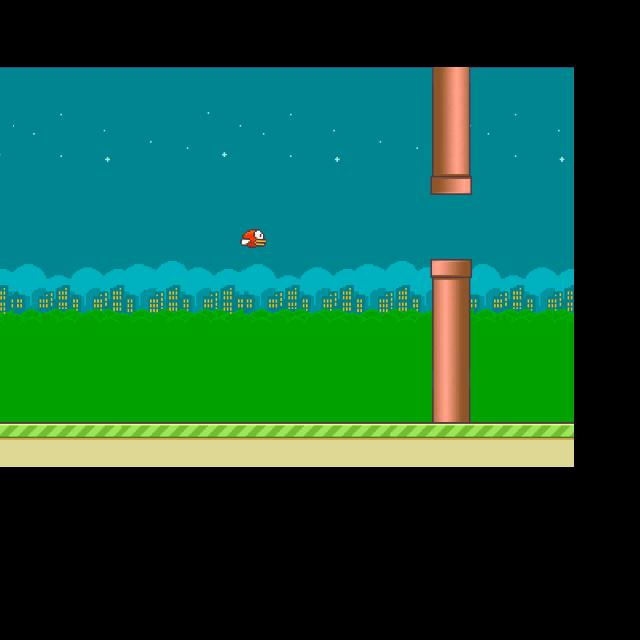bird: (240, 229, 267, 248)
pipedown: (430, 259, 471, 424)
pipeup: (430, 67, 471, 195)
